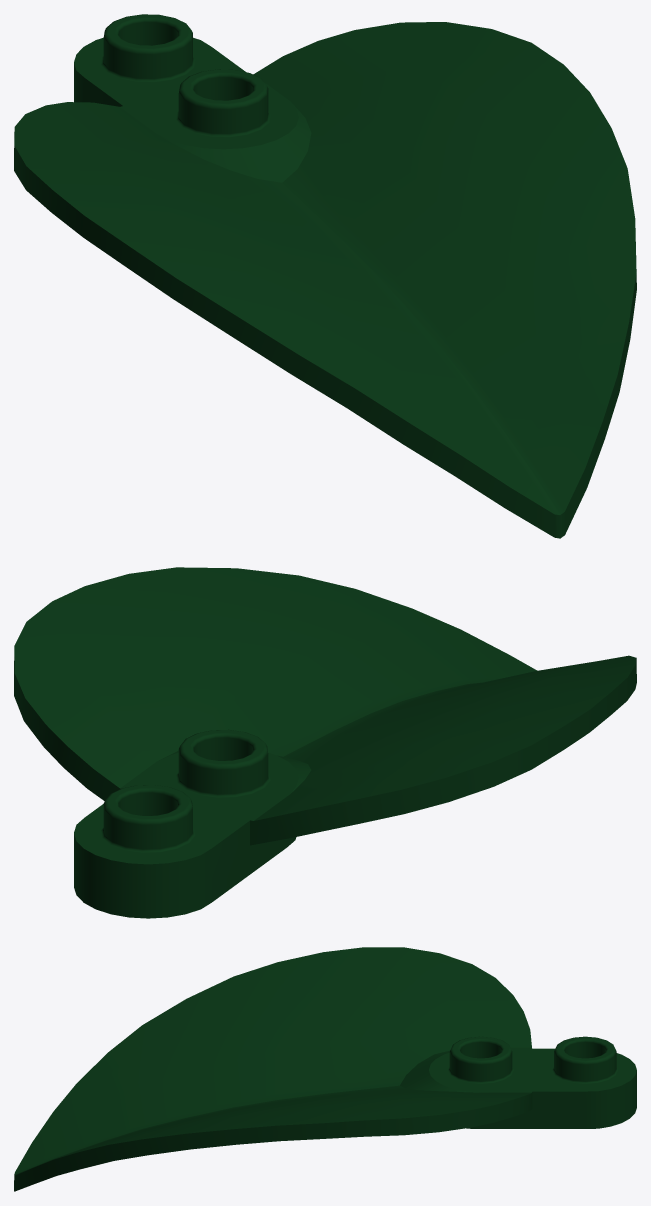
Rendered from Foia.fbx.
3 views of the same model, one above another, from view 1: azimuth 30°, elevation 25°; view 2: azimuth 150°, elevation 25°; view 3: azimuth 270°, elevation 25° (orthographic). The views are drawn at different scales.
Visible parts, largest first — view 1: part; view 2: part; view 3: part.
Boxes of the visible parts, left/top/right/bottom form: part: left=14, top=14, right=636, bottom=538; part: left=14, top=567, right=636, bottom=918; part: left=14, top=947, right=636, bottom=1191.
Bounding box in the file's own units: 3146 × 1340 × 4778.
